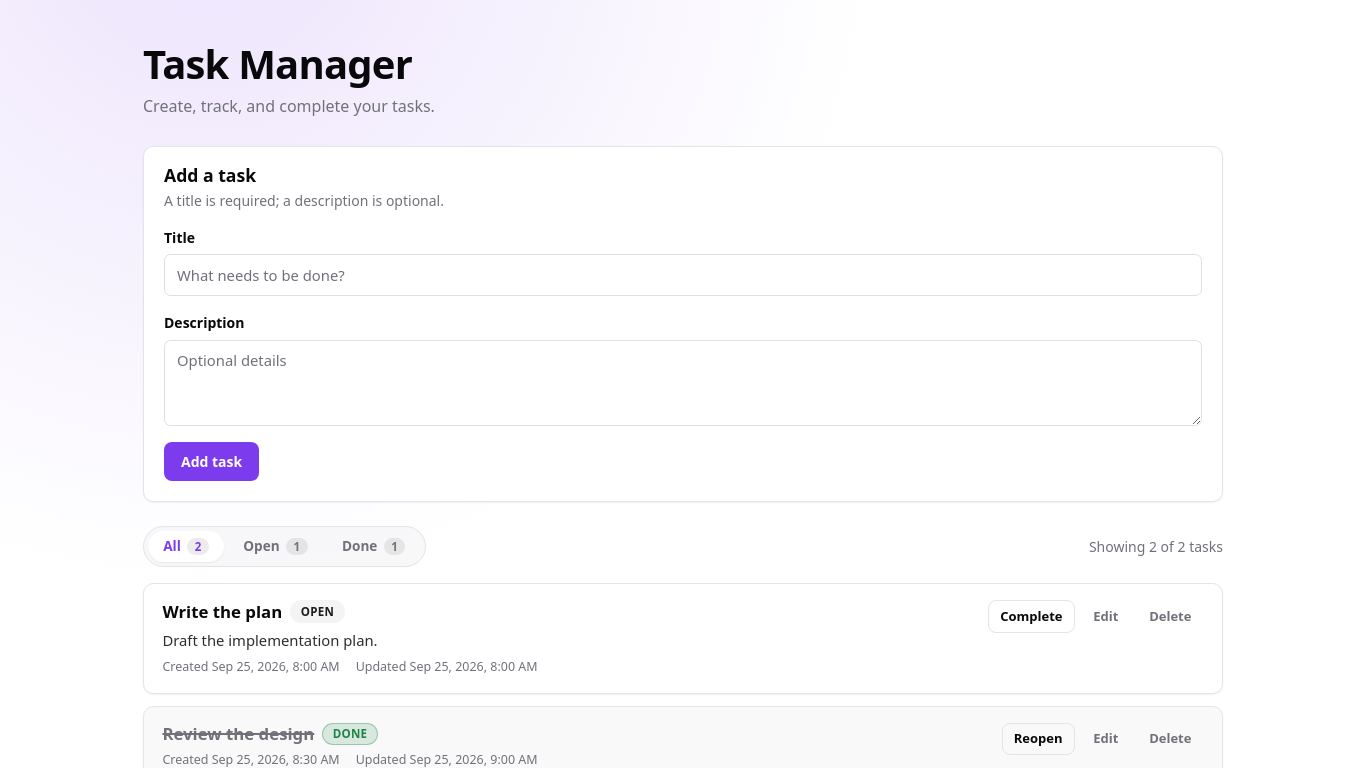
Scenario: App › deletes a task
The width and height of the screenshot is (1366, 768).
Expected: the heading "Review the design" is shown, [162,724,314,744]
What coordinates should you click on to do the following:
click the button with aria-label "Delete Review the design"
I would click on:
 (1170, 739)
Its box is [1137,722,1204,755].
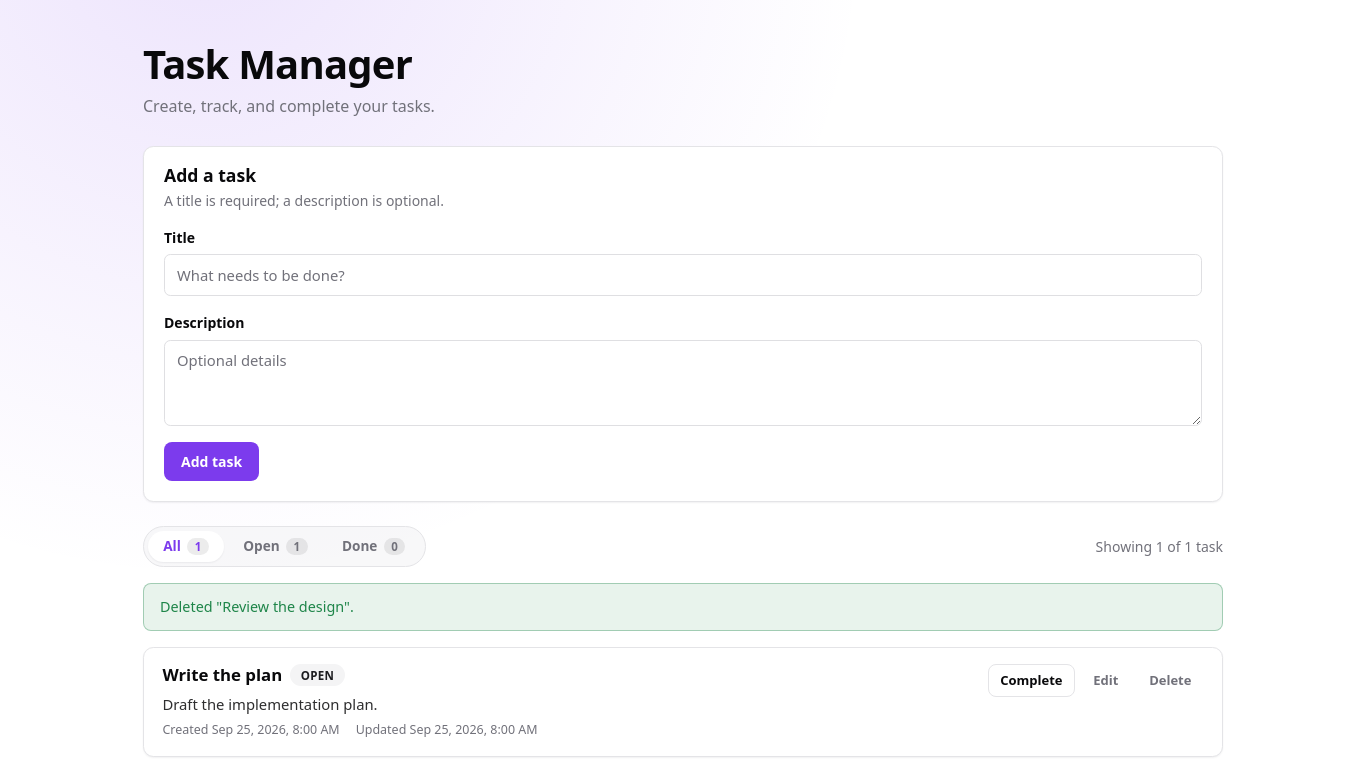
Result: the text "Deleted \"Review the design\"." is shown at [143,583,1223,631]
